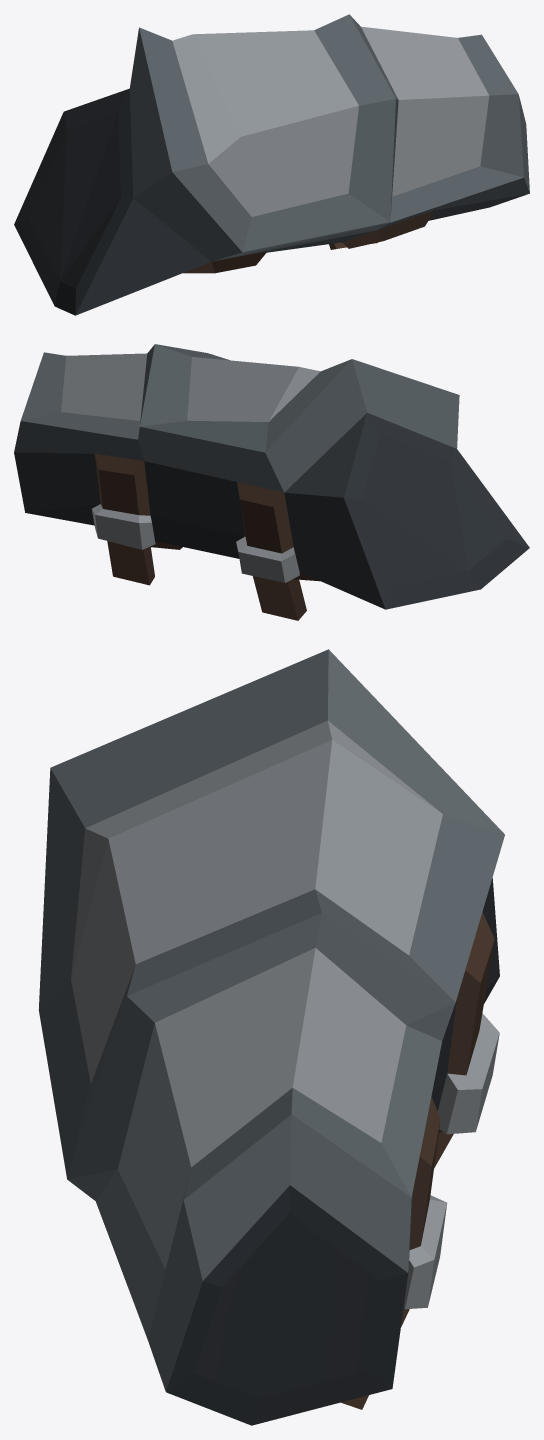
File: Chr_ArmUpperLeft_Female_12_Static.fbx
3 views of the same model, one above another, from view 1: azimuth 30°, elevation 25°; view 2: azimuth 150°, elevation 25°; view 3: azimuth 270°, elevation 25° (orthographic). The views are drawn at different scales.
Visible parts, largest first — view 1: Chr_ArmUpperLeft_Female_12_Static; view 2: Chr_ArmUpperLeft_Female_12_Static; view 3: Chr_ArmUpperLeft_Female_12_Static.
Part boxes in pixels (left/top/right/bottom): Chr_ArmUpperLeft_Female_12_Static: left=14, top=14, right=529, bottom=315; Chr_ArmUpperLeft_Female_12_Static: left=14, top=344, right=529, bottom=620; Chr_ArmUpperLeft_Female_12_Static: left=38, top=649, right=504, bottom=1425.
Size of the model in its own units: 0.3535 by 0.1981 by 0.1563.
